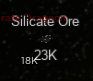Silicate: (11, 14, 83, 61)
